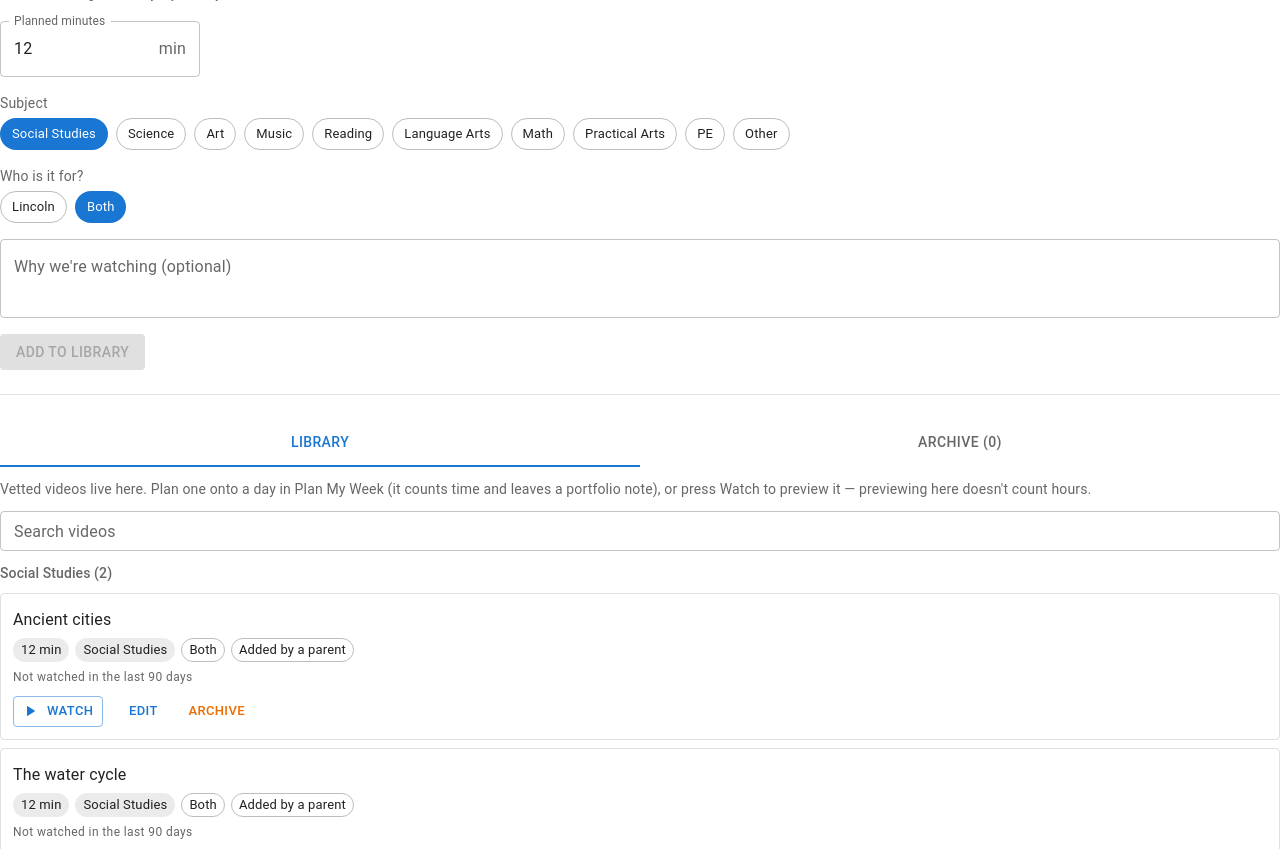
Test: WatchLibraryTab retire (FEAT-129) › a single Archive tap writes nothing — it proposes, then confirms
The image size is (1280, 849).
(page scrolled)
Click the button "Archive" below "Ancient cities": (217, 711) [183, 696, 250, 727]
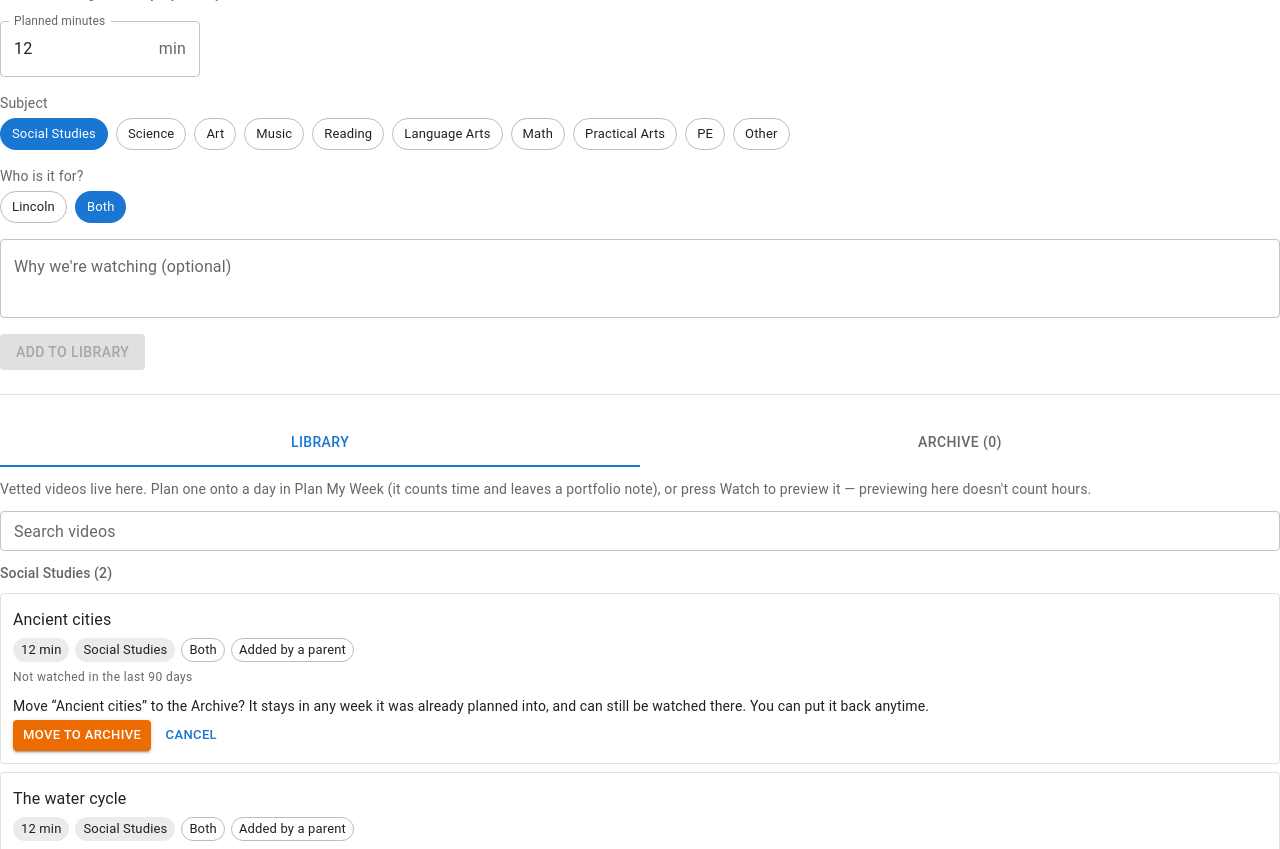
Expected: the text "stays in any week it was already planned into" is shown, [142, 698, 929, 714]
